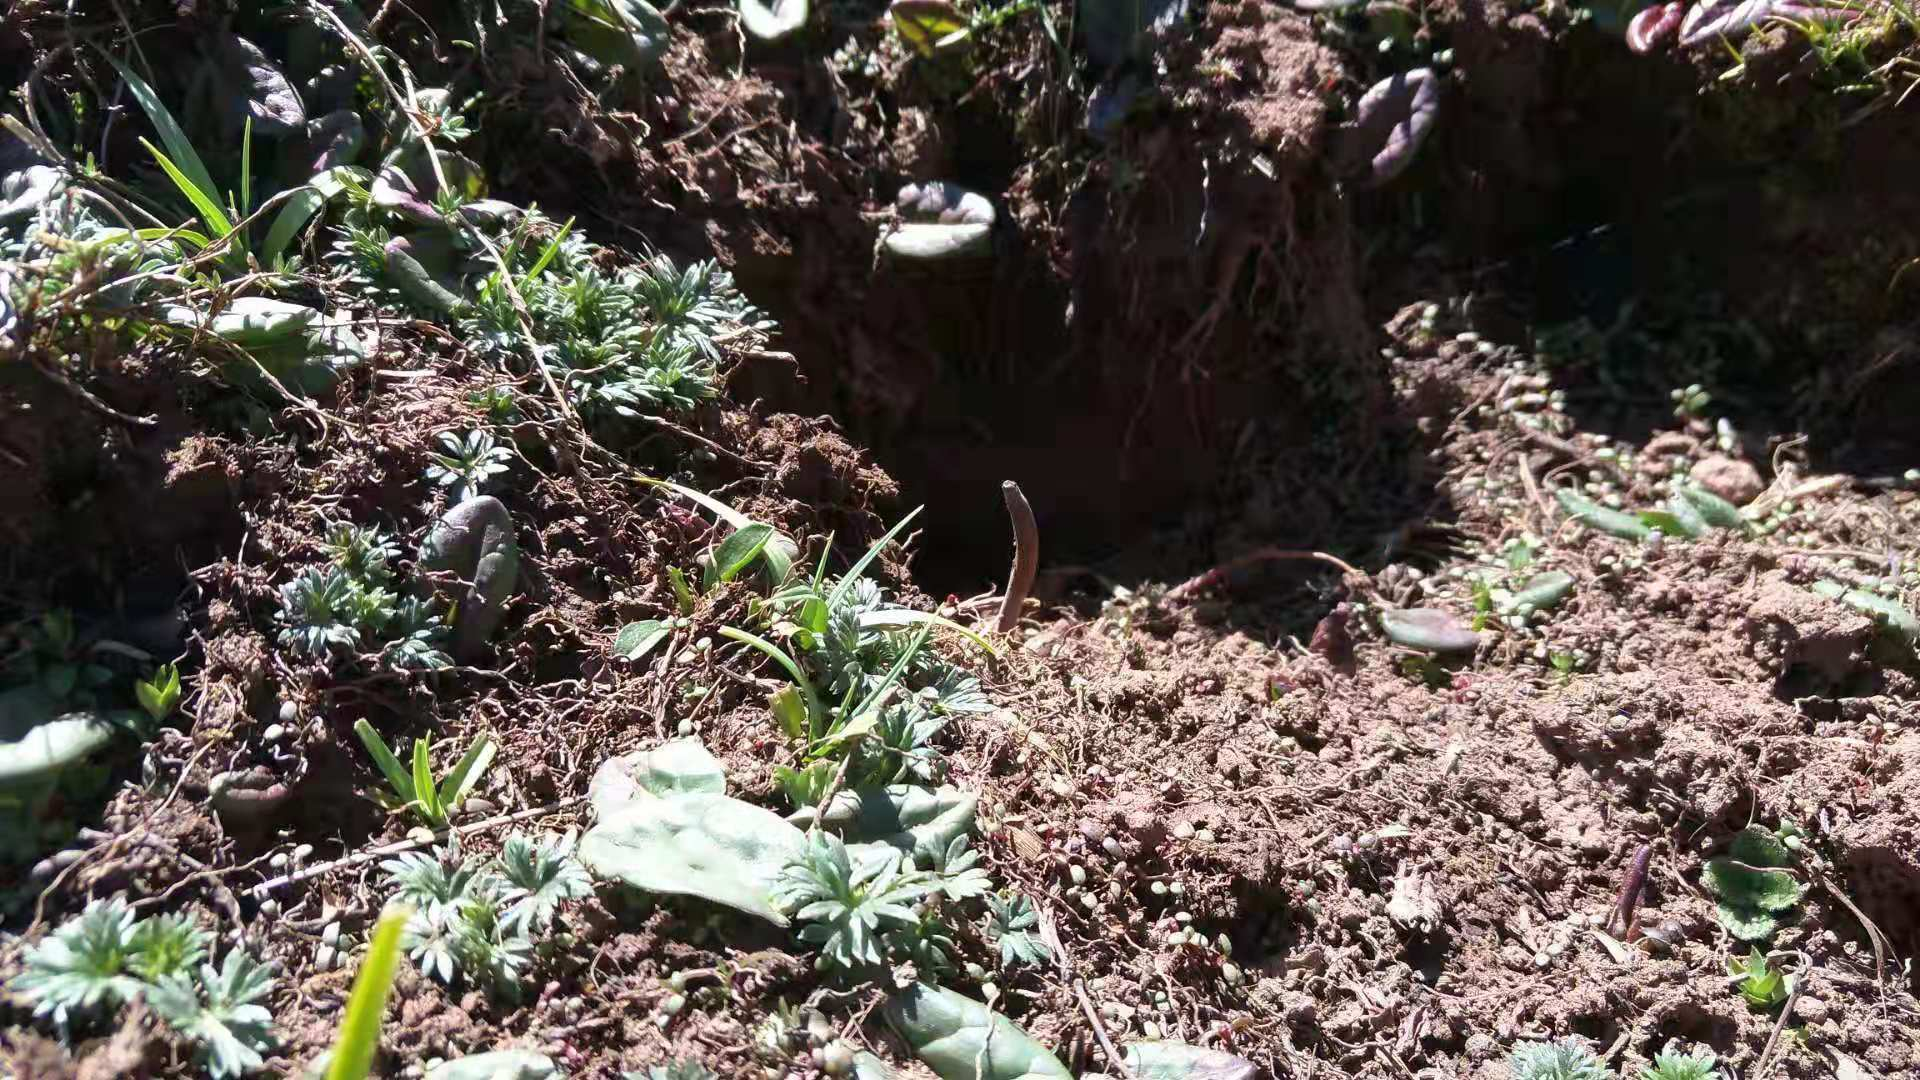cpf: (996, 462, 1040, 632)
